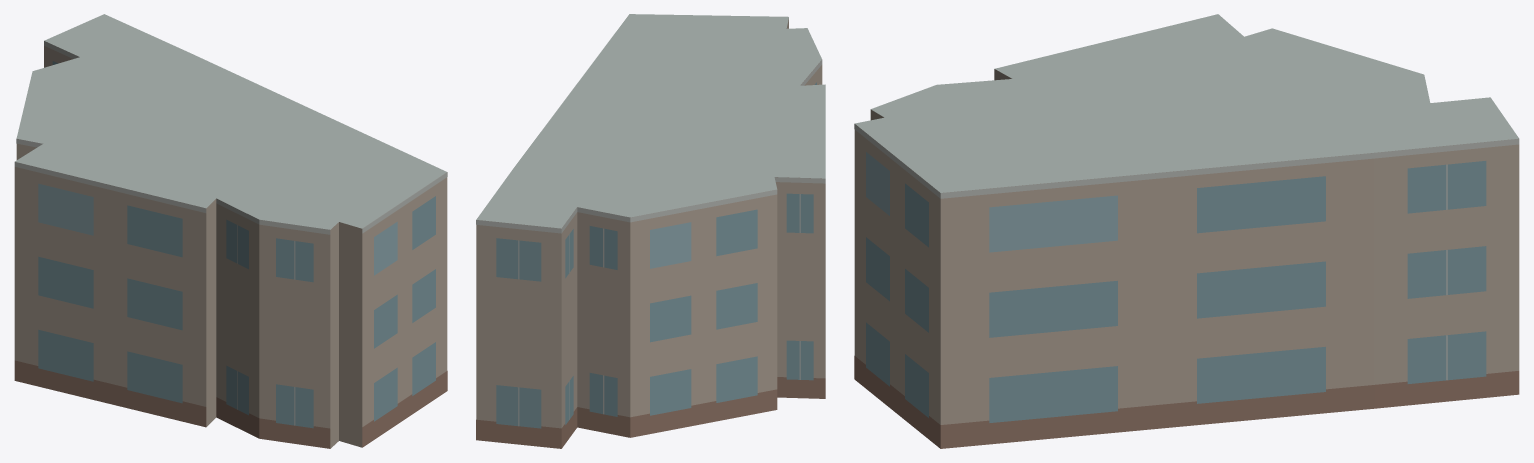
The model's file is survey-upis-32780540.glb.
The picture shows the model from 3 angles, left to right: view 1: azimuth 30°, elevation 25°; view 2: azimuth 150°, elevation 25°; view 3: azimuth 270°, elevation 25°; orthographic projection. The views are drawn at different scales.
Visible parts, largest first — view 1: survey-upis-32780540.tmp; view 2: survey-upis-32780540.tmp; view 3: survey-upis-32780540.tmp.
Boxes of the visible parts, <box> form: survey-upis-32780540.tmp: <box>14,14,447,448</box>; survey-upis-32780540.tmp: <box>476,14,825,448</box>; survey-upis-32780540.tmp: <box>854,14,1519,448</box>.
Bounding box in the file's own units: 16.21 × 10.8 × 25.44.
